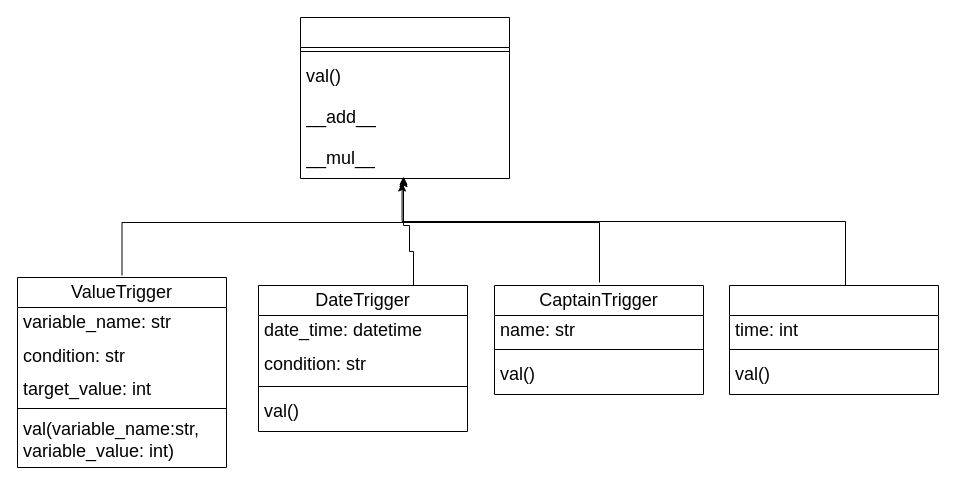
The diagram is 956 pixels wide and 485 high, and some of its shapes have lost their labels. The shapes that lost their labels are listed below. From the top down, each one's box as (x1, y1, x2, y2) in pixels, then its label:
(300, 16, 510, 178): Trigger
(728, 284, 938, 394): TimeTrigger
